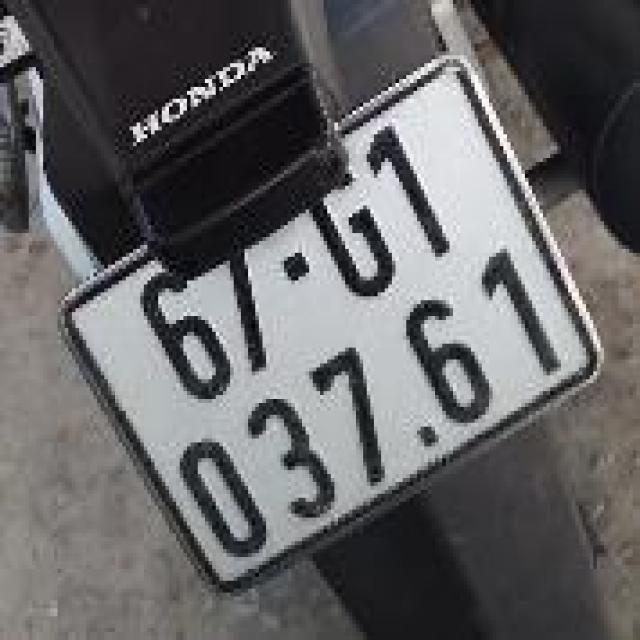0: (157, 417, 290, 578)
1: (347, 97, 481, 284), (465, 230, 584, 397)
3: (226, 374, 358, 539)
6: (125, 255, 250, 417), (390, 284, 510, 442)
7: (293, 332, 410, 503), (193, 224, 298, 386)
G: (287, 142, 422, 323)
